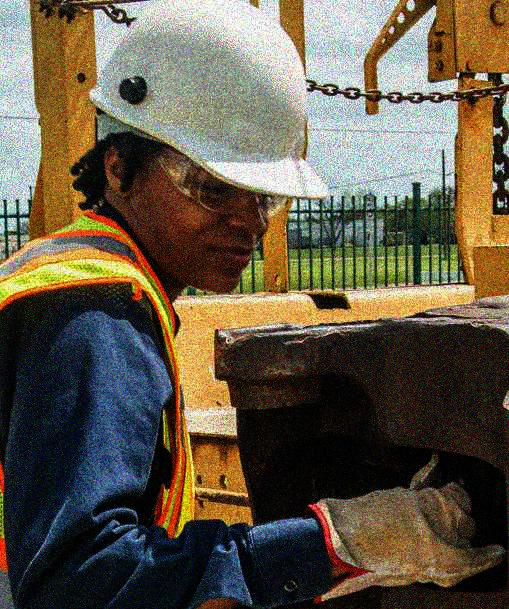helmet: (79, 1, 330, 297)
